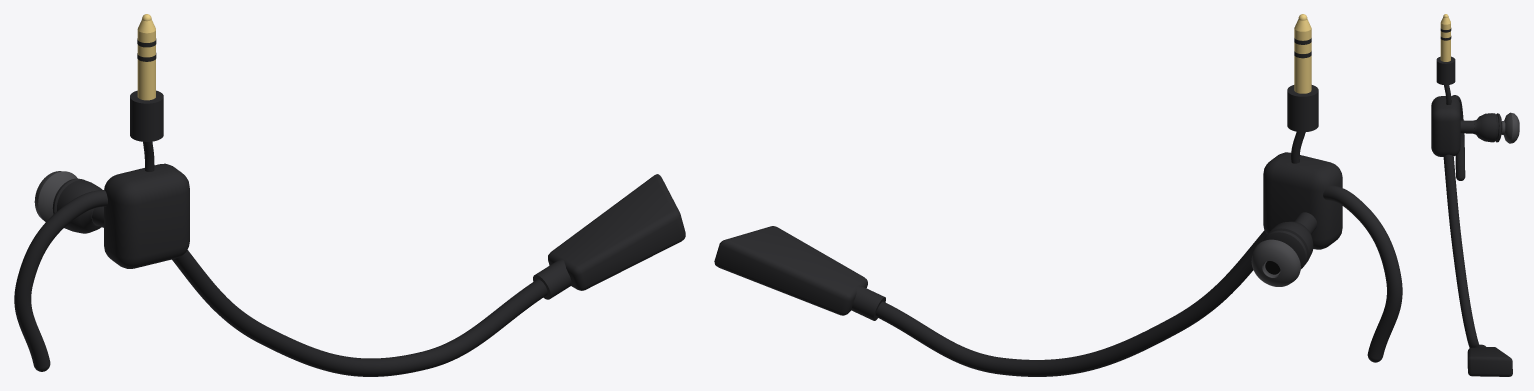
Rendered from fone_gancho.glb.
3 renders of one model, left to right at view 1: azimuth 30°, elevation 25°; view 2: azimuth 150°, elevation 25°; view 3: azimuth 270°, elevation 25°, orthographic. The views are drawn at different scales.
Parts seen in each view (by area): view 1: Haste_Mic, Cabeca_Mic, Hub, Gancho, Plug_Corpo, Fone_Corpo, P3_Metal, Fone_Silicone, Colar_Mic; view 2: Haste_Mic, Cabeca_Mic, Hub, Gancho, Fone_Silicone, Plug_Corpo, Fone_Corpo, P3_Metal, Colar_Mic; view 3: Haste_Mic, Hub, Cabeca_Mic, Fone_Corpo, Plug_Corpo, Fone_Silicone, Gancho, P3_Metal, Fone_Braco, Fio_Plug.
Boxes of the visible parts, left/top/right/bottom form: Haste_Mic: left=172, top=250, right=547, bottom=376; Cabeca_Mic: left=548, top=174, right=685, bottom=290; Hub: left=104, top=163, right=189, bottom=268; Gancho: left=14, top=190, right=107, bottom=368; Plug_Corpo: left=130, top=90, right=163, bottom=141; Fone_Corpo: left=52, top=178, right=102, bottom=233; P3_Metal: left=137, top=30, right=155, bottom=100; Fone_Silicone: left=34, top=171, right=77, bottom=221; Colar_Mic: left=533, top=260, right=571, bottom=299; Haste_Mic: left=875, top=230, right=1267, bottom=376; Cabeca_Mic: left=714, top=226, right=867, bottom=315; Hub: left=1263, top=152, right=1342, bottom=249; Gancho: left=1323, top=185, right=1402, bottom=358; Fone_Silicone: left=1251, top=239, right=1300, bottom=286; Plug_Corpo: left=1287, top=85, right=1318, bottom=132; Fone_Corpo: left=1263, top=221, right=1313, bottom=269; P3_Metal: left=1294, top=28, right=1311, bottom=93; Colar_Mic: left=851, top=285, right=885, bottom=320; Haste_Mic: left=1443, top=154, right=1479, bottom=347; Hub: left=1431, top=96, right=1460, bottom=156; Cabeca_Mic: left=1467, top=347, right=1512, bottom=376; Fone_Corpo: left=1473, top=113, right=1501, bottom=142; Plug_Corpo: left=1436, top=56, right=1455, bottom=85; Fone_Silicone: left=1501, top=112, right=1519, bottom=143; Gancho: left=1452, top=95, right=1465, bottom=177; P3_Metal: left=1440, top=23, right=1450, bottom=61; Fone_Braco: left=1460, top=120, right=1474, bottom=133; Fio_Plug: left=1444, top=85, right=1451, bottom=104.
Size of the model in its own units: 0.152 by 0.0929 by 0.0301.
